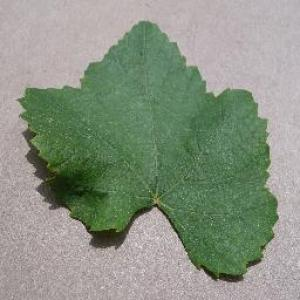Folha: (15, 19, 279, 280)
